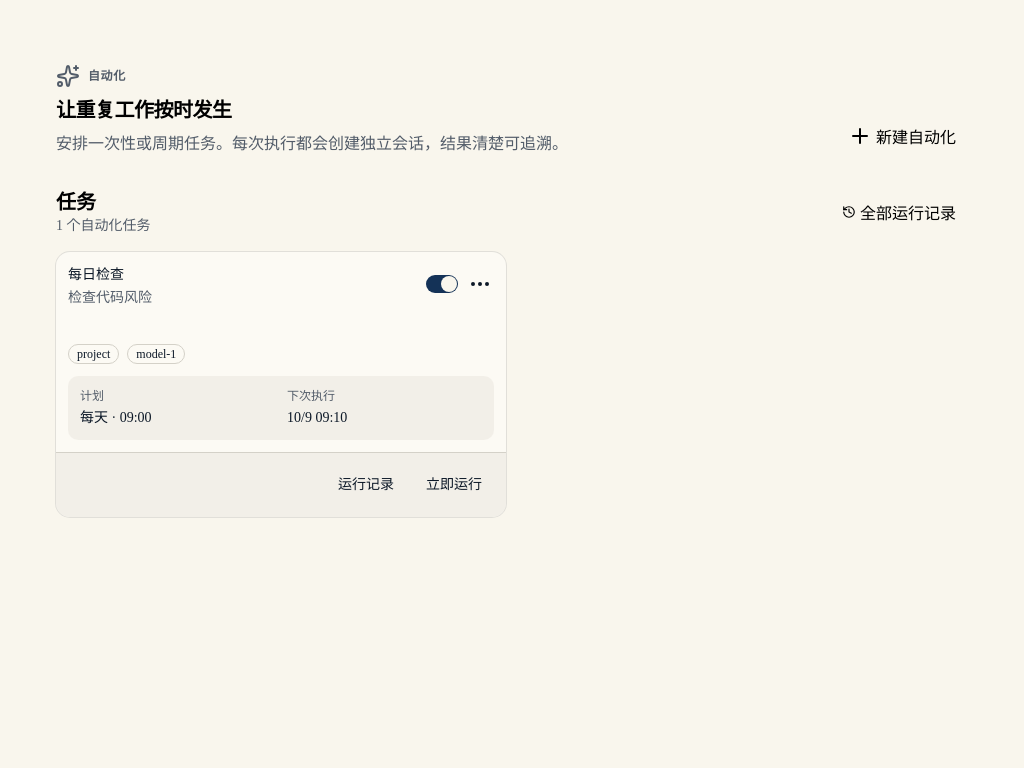
Test: automationsPage › 创建任务时权限区域跟随上方选择的工作区
What coordinates should you click on to do the following:
click the button "新建自动化"
I would click on:
 (902, 136)
Its box is [836, 116, 968, 156].
(page scrolled)
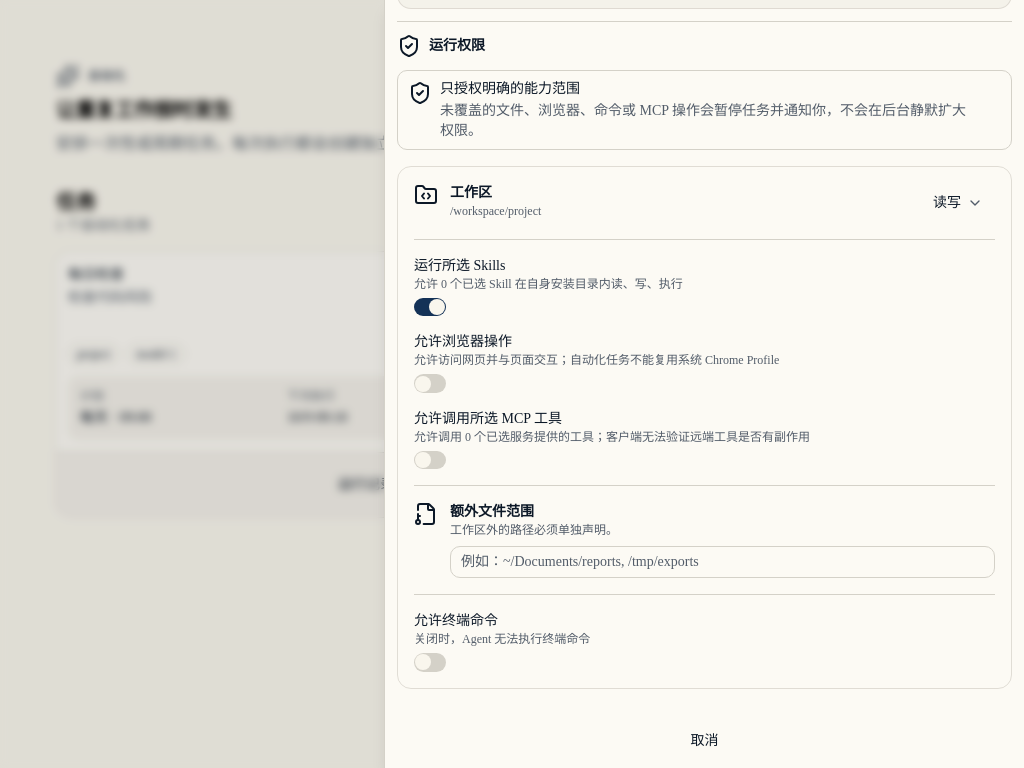
Check: the text "/workspace/project" is shown, box [450, 204, 541, 218]
Check: the switch named "允许浏览器操作" below "允许访问网页并与页面交互；自动化任务不能复用系统 Chrome Profile" is not checked, box [414, 374, 446, 393]
